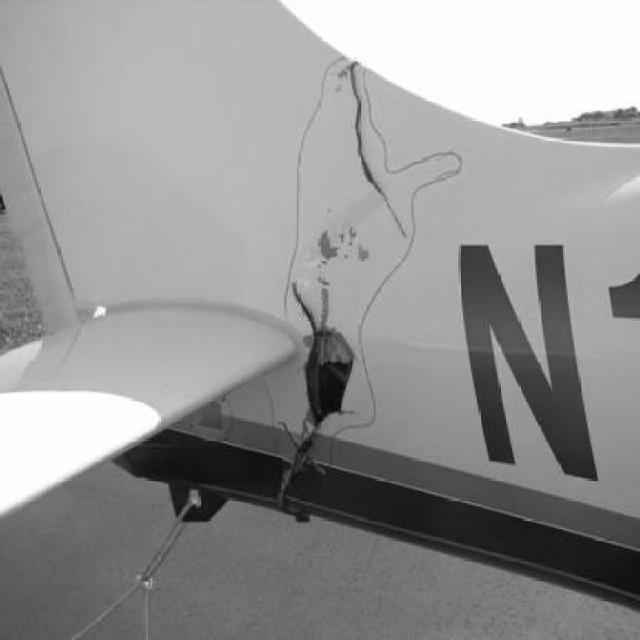crack: (340, 60, 409, 209)
